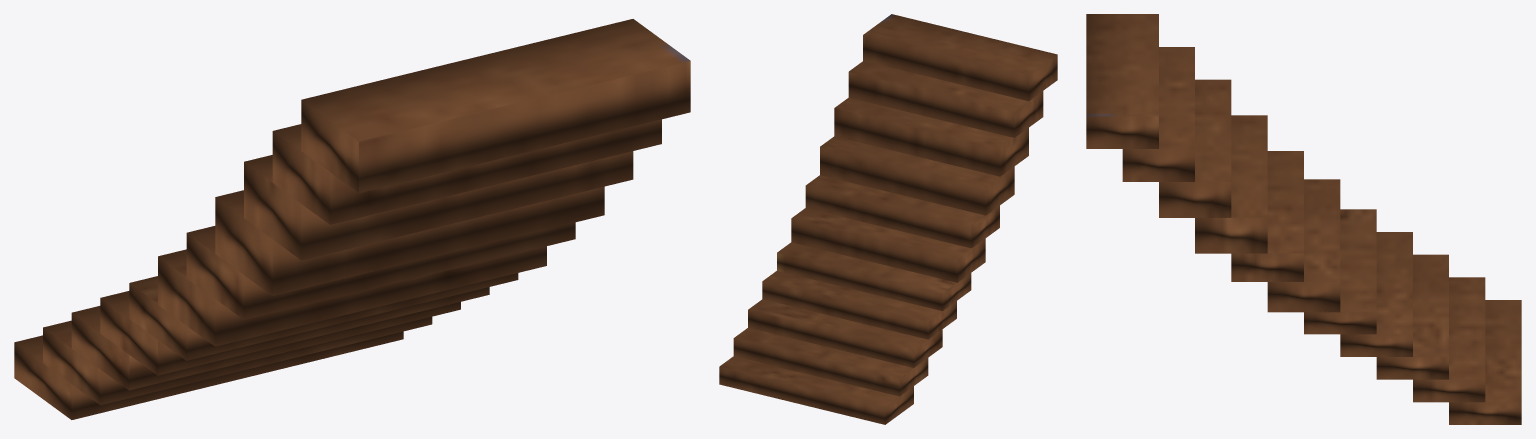
The model's file is Stair.fbx.
3 renders of one model, left to right at view 1: azimuth 30°, elevation 25°; view 2: azimuth 150°, elevation 25°; view 3: azimuth 270°, elevation 25°, orthographic. The views are drawn at different scales.
Visible parts, largest first — view 1: Stair; view 2: Stair; view 3: Stair.
Boxes of the visible parts, box(x1,y1,x2,y2) form: Stair: box(14, 19, 690, 419); Stair: box(719, 14, 1057, 424); Stair: box(1086, 14, 1521, 424).
Bounding box in the file's own units: 195 × 275 × 351.
Materials: 1 (1 with a texture image).
